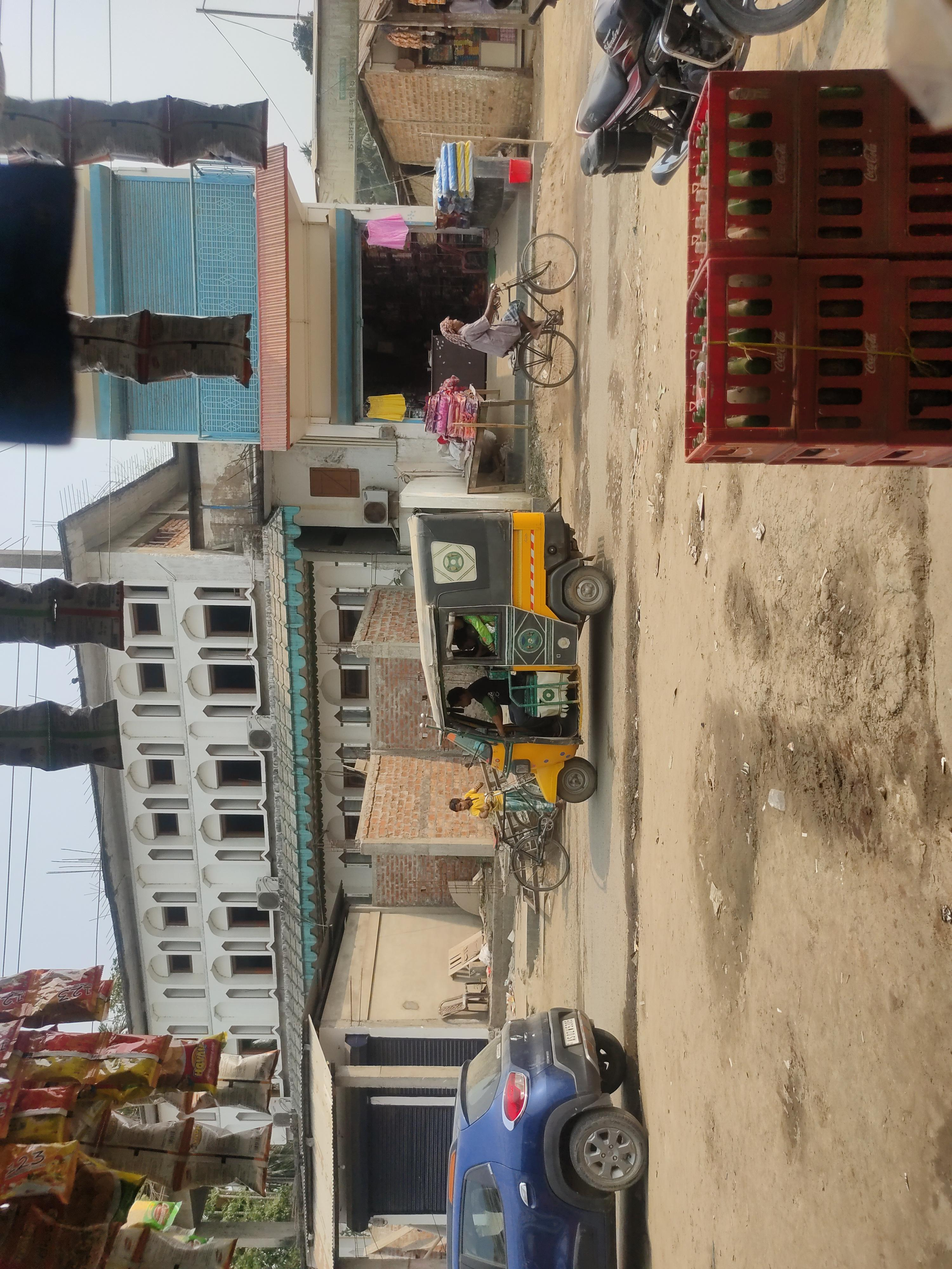Non-emergency: (350, 424, 654, 864)
